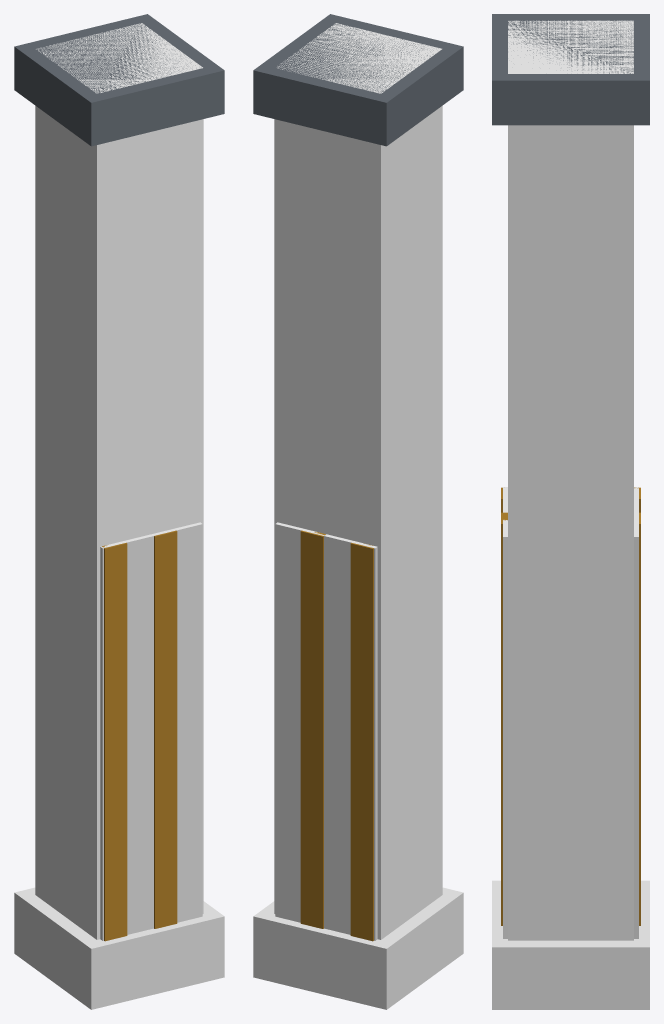
File: Wall_Cap_End.fbx
3 renders of one model, left to right at view 1: azimuth 30°, elevation 25°; view 2: azimuth 150°, elevation 25°; view 3: azimuth 270°, elevation 25°, orthographic. The views are drawn at different scales.
Parts seen in each view (by area): view 1: Wall_Cap_End; view 2: Wall_Cap_End; view 3: Wall_Cap_End.
Part boxes in pixels (box(x1,y1,x2,y2)): Wall_Cap_End: box(14, 14, 224, 1009); Wall_Cap_End: box(253, 14, 463, 1009); Wall_Cap_End: box(492, 14, 649, 1009).
Bounding box in the file's own units: 0.8 × 5.2 × 0.8.
